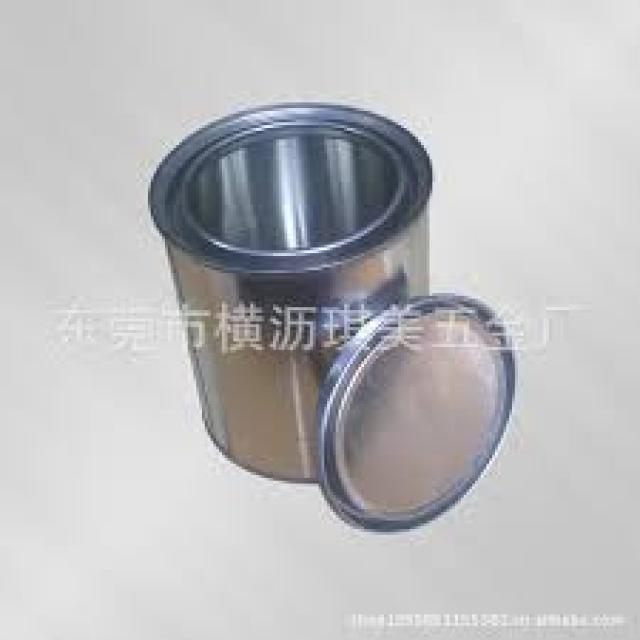metal: (151, 106, 514, 531), (151, 106, 432, 480), (319, 296, 514, 531)
